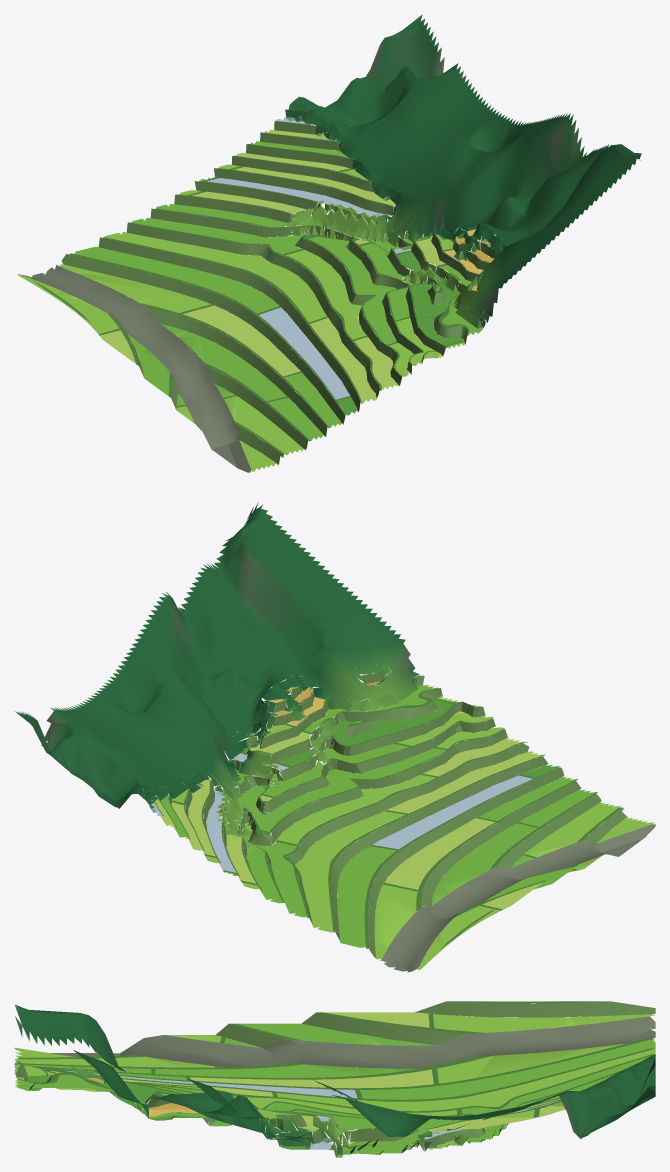
The model's file is payo_land_xm1_y1_lod2.glb.
3 views of the same model, one above another, from view 1: azimuth 30°, elevation 25°; view 2: azimuth 150°, elevation 25°; view 3: azimuth 270°, elevation 25° (orthographic). The views are drawn at different scales.
Parts seen in each view (by area): view 1: payo_land_xm1_y1; view 2: payo_land_xm1_y1; view 3: payo_land_xm1_y1.
Boxes of the visible parts, x1=… form: payo_land_xm1_y1: x1=18, y1=14, x2=641, y2=472; payo_land_xm1_y1: x1=15, y1=502, x2=655, y2=972; payo_land_xm1_y1: x1=14, y1=1001, x2=655, y2=1157.
Bounding box in the file's own units: 258 × 139 × 258.
